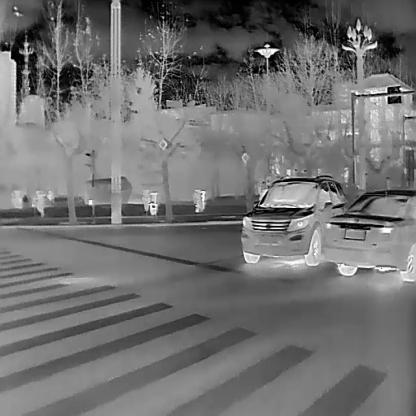car: (239, 172, 350, 266), (320, 188, 416, 282)
